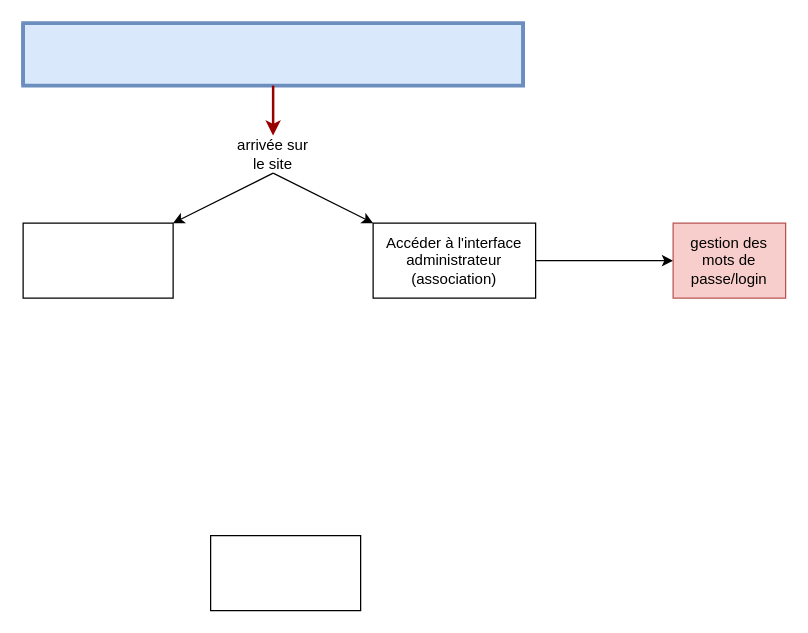
The diagram is 808 pixels wide and 633 high, and some of its shapes have lost their labels. Here are the shapes that lost their labels. From the top down, the box of each, then its label:
(21, 21, 524, 87): SonoLight reservation
(22, 222, 173, 298): Créer une demande de location
